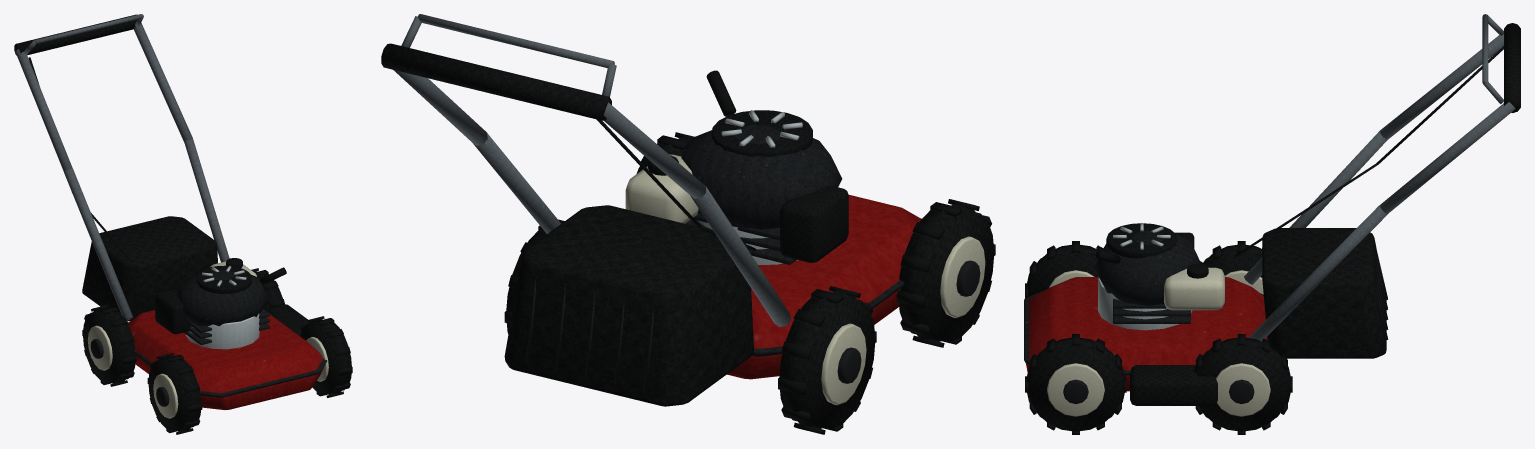
The model's file is Mower_Push_21in.fbx.
3 views of the same model, side by side, from view 1: azimuth 30°, elevation 25°; view 2: azimuth 150°, elevation 25°; view 3: azimuth 270°, elevation 25° (orthographic). The views are drawn at different scales.
Parts seen in each view (by area): view 1: Mower_Push_21in__Body, Mower_Push_21in__Wheel_Front_L, Mower_Push_21in__Wheel_Rear_L, Mower_Push_21in__Wheel_Front_R, Mower_Push_21in__Wheel_Rear_R; view 2: Mower_Push_21in__Body, Mower_Push_21in__Wheel_Rear_L, Mower_Push_21in__Wheel_Front_L, Mower_Push_21in__Wheel_Rear_R, Mower_Push_21in__Wheel_Front_R; view 3: Mower_Push_21in__Body, Mower_Push_21in__Wheel_Front_R, Mower_Push_21in__Wheel_Rear_R, Mower_Push_21in__Wheel_Front_L, Mower_Push_21in__Wheel_Rear_L.
Part boxes in pixels (left/top/right/bottom): Mower_Push_21in__Body: left=14, top=14, right=327, bottom=409; Mower_Push_21in__Wheel_Front_L: left=147, top=353, right=202, bottom=434; Mower_Push_21in__Wheel_Rear_L: left=82, top=305, right=136, bottom=386; Mower_Push_21in__Wheel_Front_R: left=300, top=316, right=352, bottom=397; Mower_Push_21in__Wheel_Rear_R: left=251, top=268, right=285, bottom=313; Mower_Push_21in__Body: left=381, top=14, right=921, bottom=406; Mower_Push_21in__Wheel_Rear_L: left=778, top=286, right=876, bottom=434; Mower_Push_21in__Wheel_Front_L: left=896, top=199, right=995, bottom=347; Mower_Push_21in__Wheel_Rear_R: left=504, top=219, right=564, bottom=333; Mower_Push_21in__Wheel_Front_R: left=636, top=132, right=694, bottom=173; Mower_Push_21in__Body: left=1024, top=14, right=1520, bottom=405; Mower_Push_21in__Wheel_Front_R: left=1025, top=334, right=1126, bottom=434; Mower_Push_21in__Wheel_Rear_R: left=1194, top=334, right=1292, bottom=434; Mower_Push_21in__Wheel_Front_L: left=1025, top=241, right=1103, bottom=298; Mower_Push_21in__Wheel_Rear_L: left=1200, top=241, right=1263, bottom=294.
Bounding box in the file's own units: 0.7865 × 1.1 × 1.47.
Materials: 1 (1 with a texture image).
